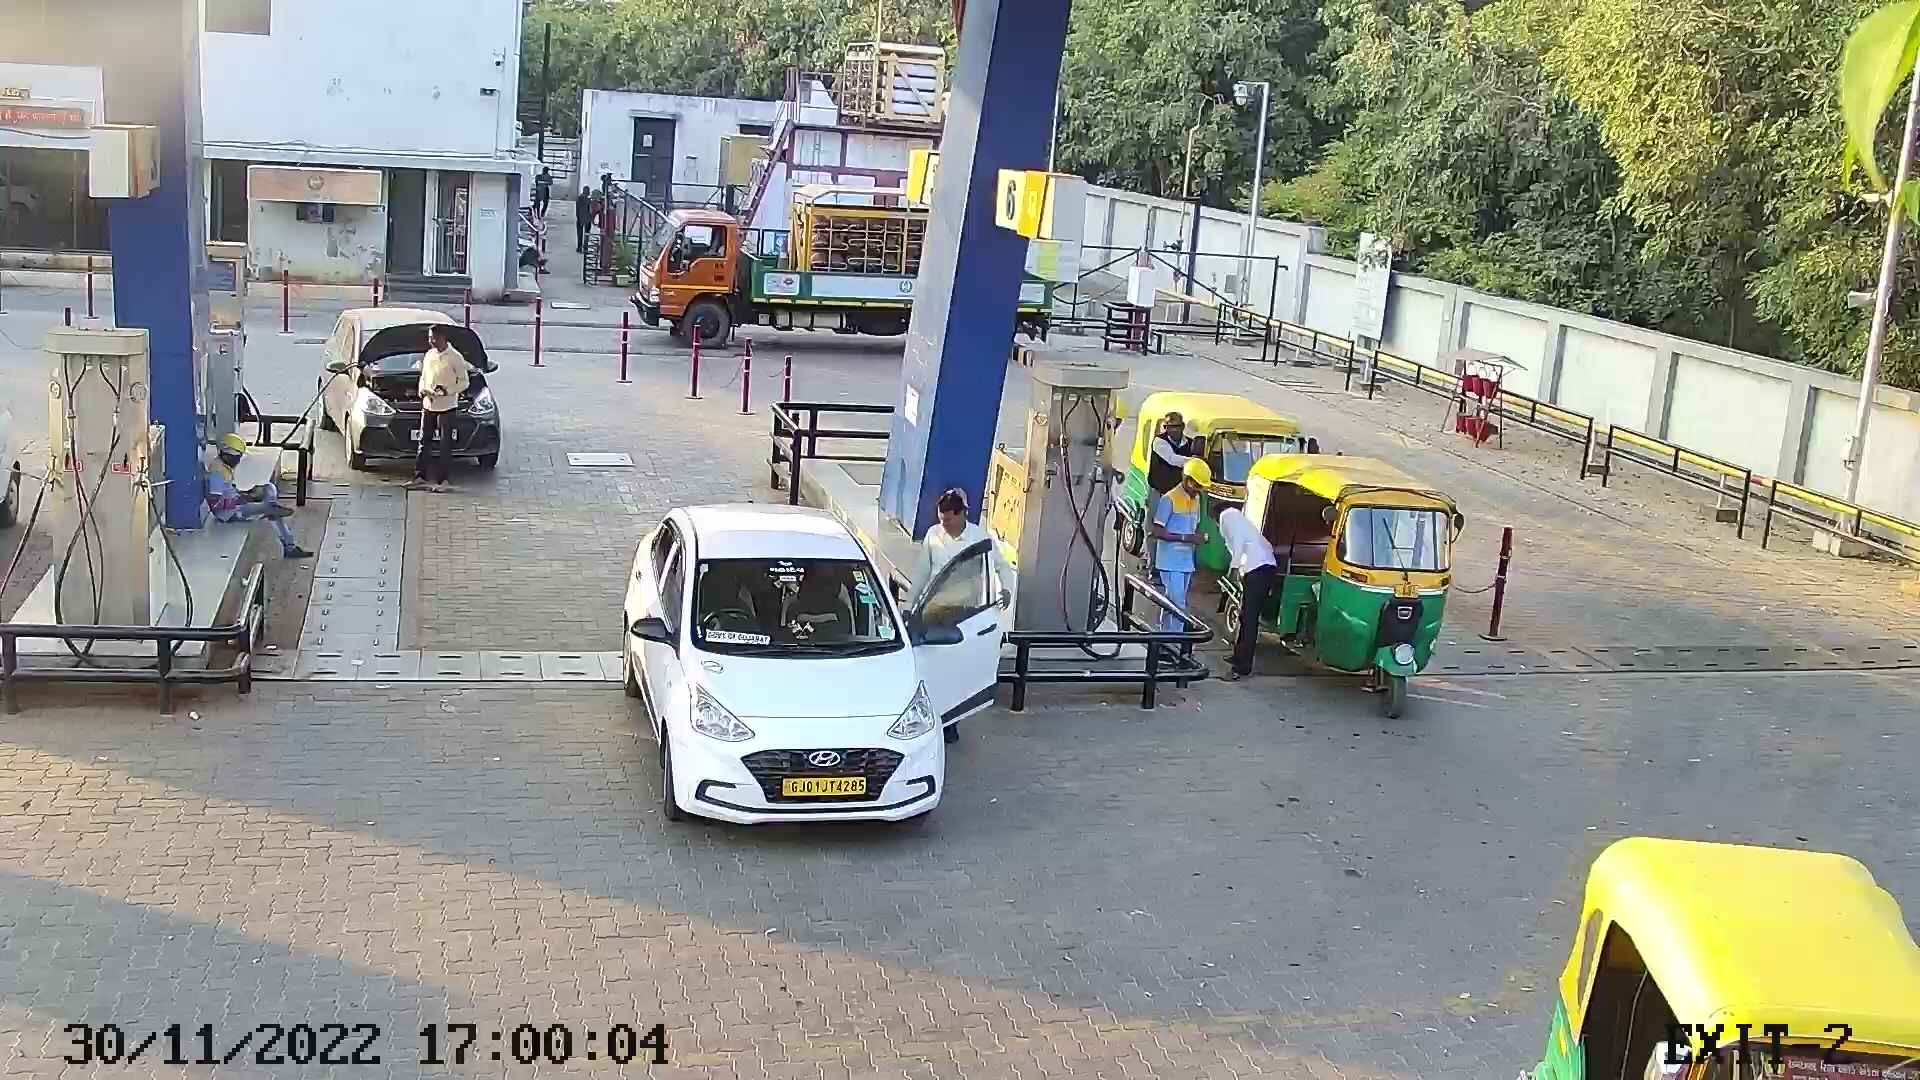Auto: (1497, 806, 1917, 1077), (1207, 444, 1468, 727), (1102, 384, 1324, 605)
Car: (608, 491, 1010, 845), (302, 295, 516, 487), (1, 368, 36, 558)
HMV: (626, 179, 934, 353)
Others: (204, 422, 323, 572), (1145, 450, 1216, 676), (1097, 392, 1133, 611)
